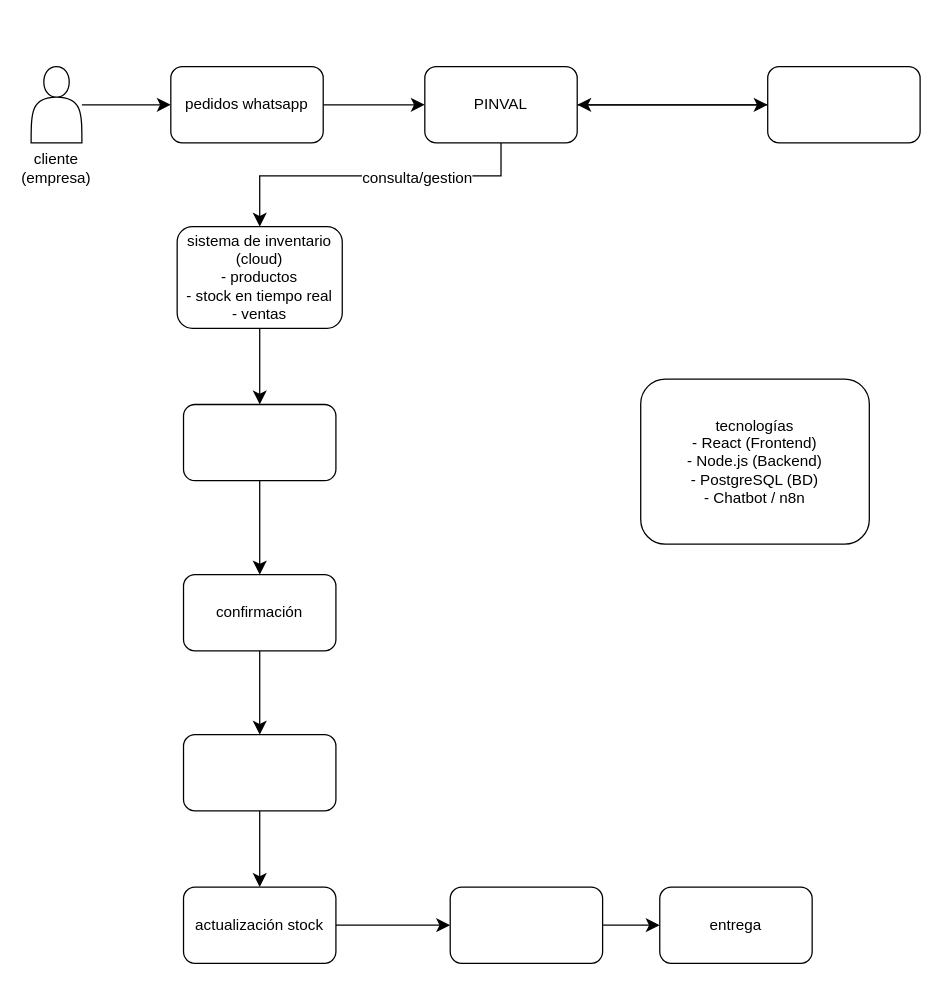
Some shapes in this 942 by 986 pixel diagram are drawn without their labels. The box of each missing label's shape, as (x1, y1, x2, y2) in pixels:
dashboard: (766, 65, 920, 143)
preparación pedido: (449, 886, 603, 963)
registro ventas: (182, 733, 336, 811)
validación automática stock: (182, 403, 336, 481)
